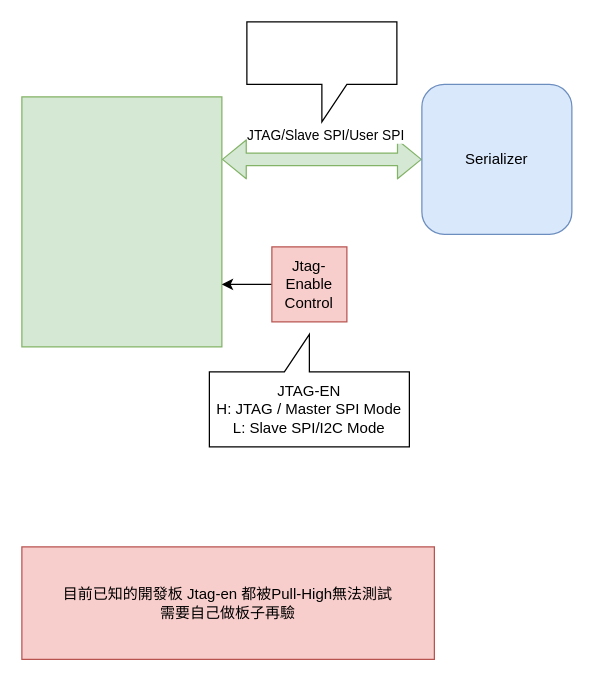
This 594x681 diagram has some shape labels left out. The shapes that lost their labels are listed below. From the top down, each one's box as (x1, y1, x2, y2) in pixels, then its label:
(246, 21, 397, 122): I2C Also OK
(21, 96, 222, 347): CrossLink-NX
